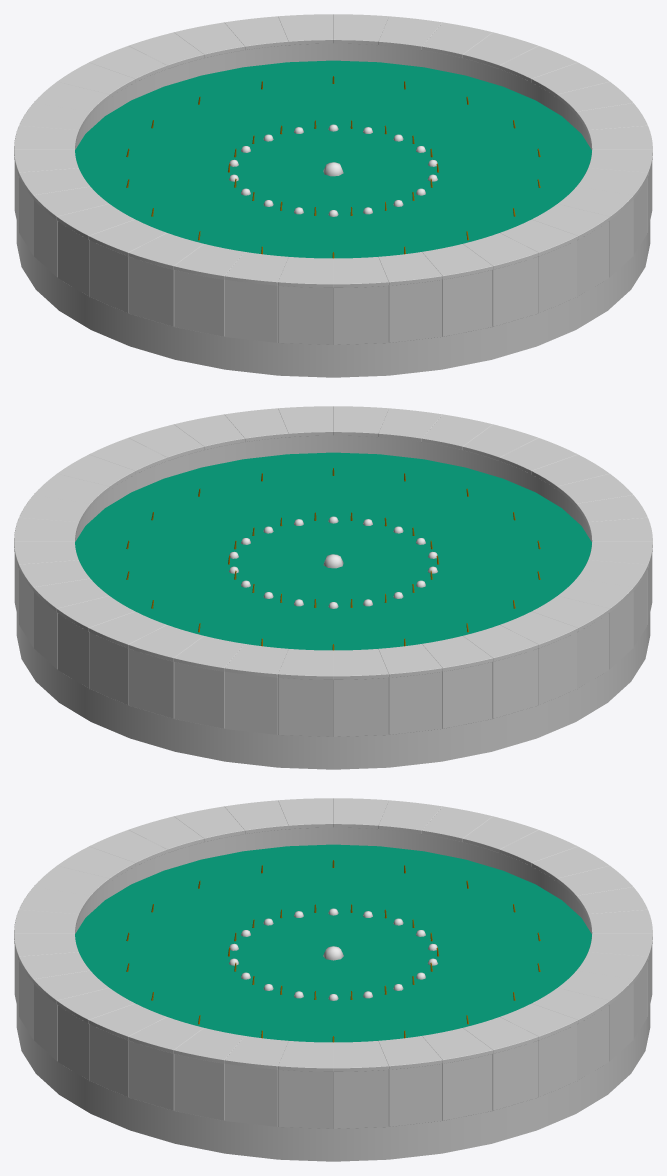
Rendered from fountain_w_collider.glb.
3 renders of one model, top to bottom at view 1: azimuth 30°, elevation 25°; view 2: azimuth 150°, elevation 25°; view 3: azimuth 270°, elevation 25°, orthographic.
Visible parts, largest first — view 1: FountainBase, Water, DistHelper; view 2: FountainBase, Water, DistHelper; view 3: FountainBase, Water, DistHelper.
Part boxes in pixels (x1,y1,x2,y2): FountainBase: (14, 14, 652, 377); Water: (75, 60, 591, 258); DistHelper: (229, 124, 437, 216); FountainBase: (14, 406, 652, 769); Water: (75, 452, 591, 650); DistHelper: (229, 516, 437, 608); FountainBase: (14, 798, 652, 1161); Water: (75, 844, 591, 1042); DistHelper: (229, 908, 437, 1000).
Size of what is drawn, in the model's own units: 6.05 by 0.99 by 6.05.
